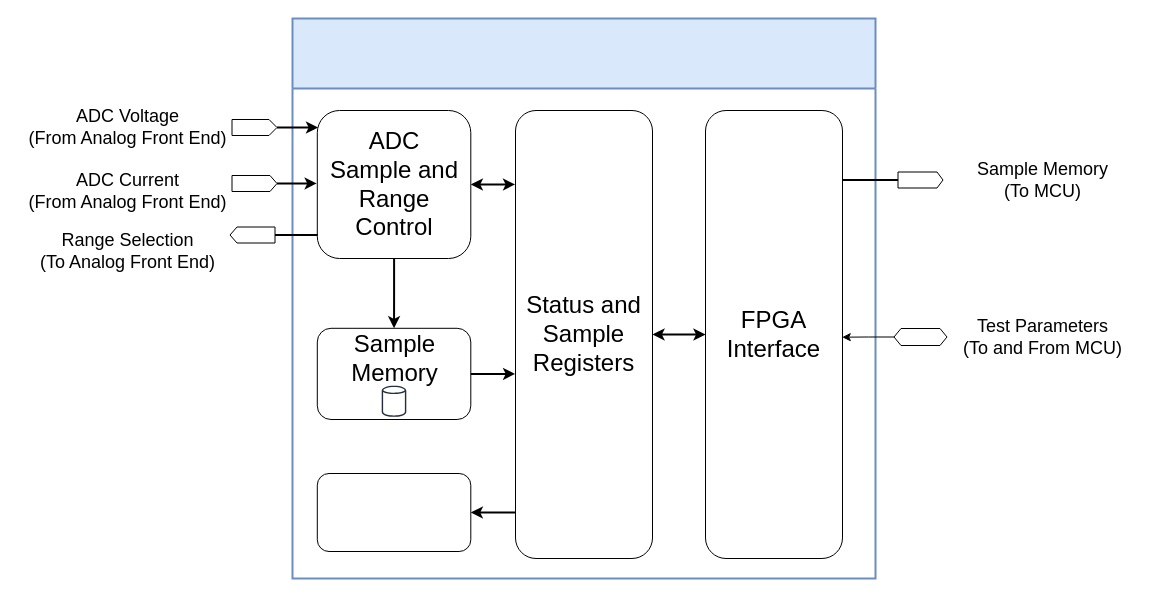
This 1149x596 diagram has some shape labels left out. The shapes that lost their labels are listed below. From the top down, each one's box as (x1, y1, x2, y2) in pixels, then its label:
(291, 17, 876, 579): Sample Control (FPGA)
(316, 472, 471, 552): DAC Control
